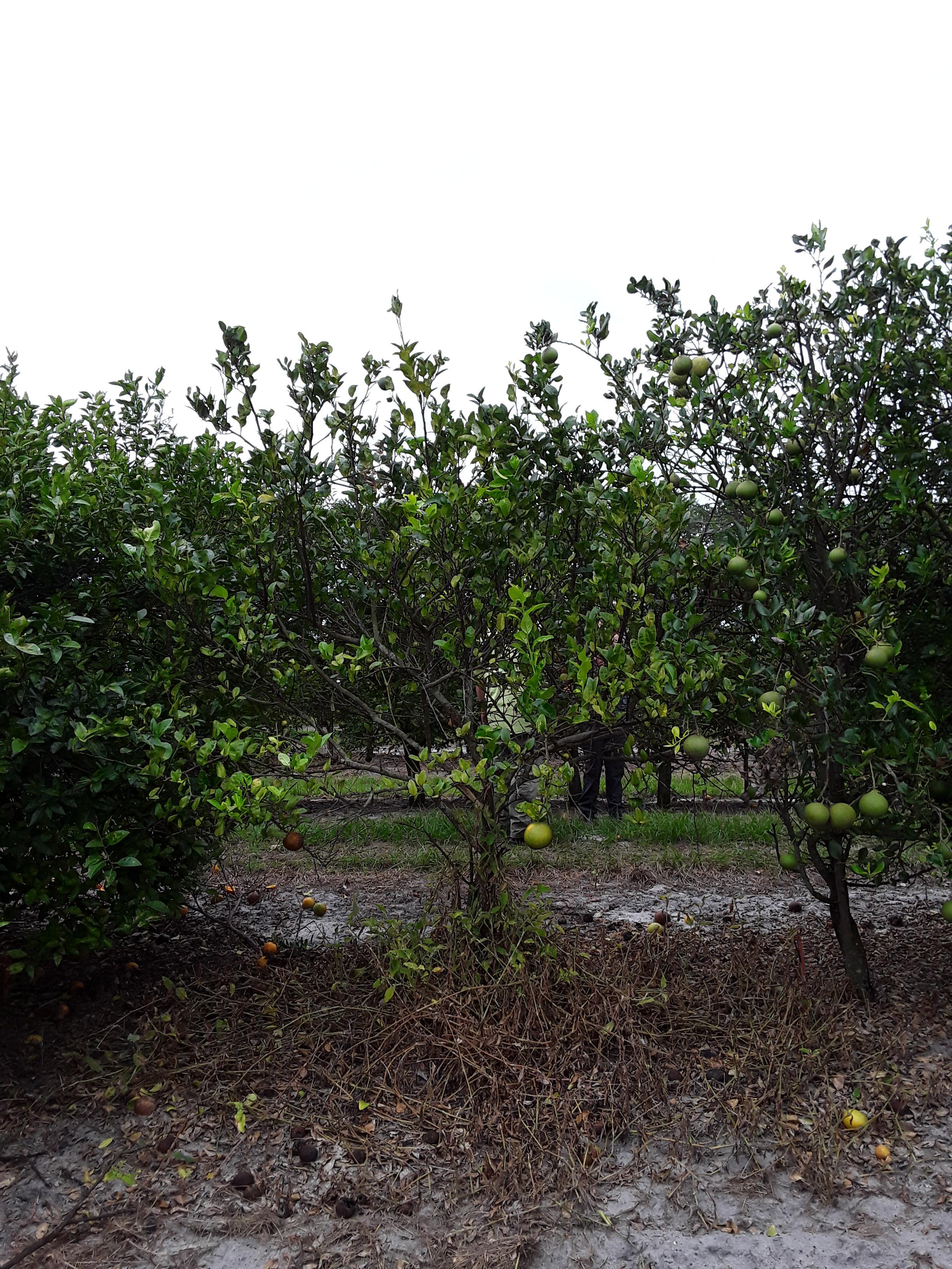fruit_on_ground: (866, 637, 898, 677), (519, 818, 556, 851), (752, 685, 788, 718), (678, 730, 712, 764), (858, 787, 888, 822), (832, 800, 861, 834), (805, 800, 833, 834), (847, 603, 876, 632), (733, 476, 763, 502), (928, 778, 952, 808), (727, 553, 751, 582), (871, 635, 898, 660), (841, 460, 864, 486), (784, 434, 809, 457), (690, 354, 711, 381), (672, 351, 693, 377), (758, 352, 784, 372), (780, 848, 801, 872), (540, 342, 561, 365), (723, 477, 744, 499), (764, 507, 786, 528), (933, 837, 952, 860), (828, 547, 852, 565), (938, 893, 952, 923), (665, 468, 683, 489), (765, 322, 785, 340), (752, 587, 774, 602)
fruit_on_tree: (842, 1105, 870, 1138), (294, 1135, 321, 1167), (334, 1194, 362, 1219), (154, 1133, 184, 1156), (231, 1168, 259, 1191), (418, 1126, 448, 1147), (133, 1092, 156, 1119), (22, 1030, 47, 1050), (708, 1064, 729, 1087), (645, 915, 665, 938), (287, 834, 306, 856), (121, 958, 143, 977), (651, 908, 670, 929), (349, 1147, 372, 1164), (886, 911, 909, 927), (665, 1064, 685, 1082), (299, 891, 315, 912), (786, 897, 803, 916), (620, 927, 639, 944), (68, 975, 86, 992), (873, 1143, 890, 1161), (555, 911, 571, 930), (681, 911, 697, 929), (220, 881, 242, 894), (208, 891, 228, 905), (581, 910, 597, 926), (262, 941, 276, 957), (175, 900, 188, 916), (57, 1001, 70, 1017), (210, 863, 227, 875), (263, 883, 276, 898), (247, 890, 260, 905), (313, 900, 326, 915), (259, 953, 271, 969)
